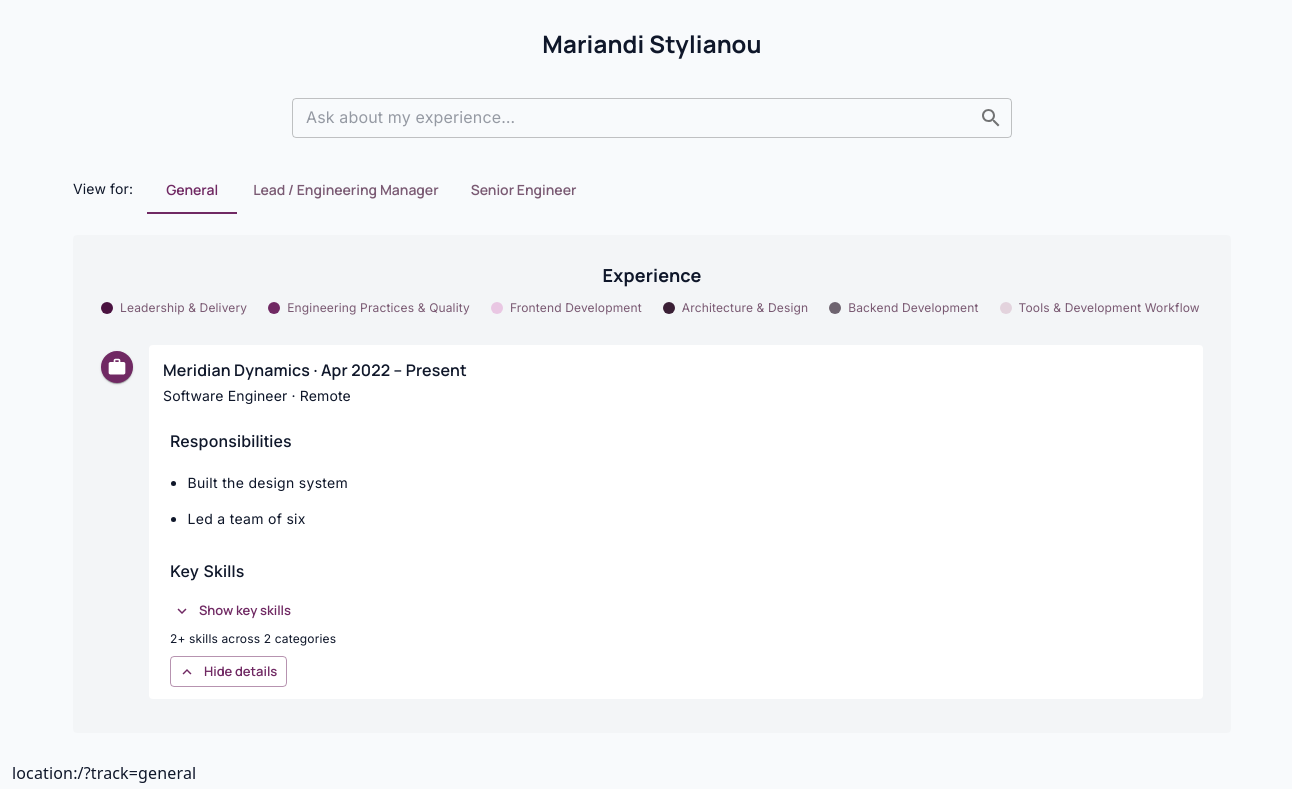
Test case: Resume › switching tabs hides content outside the track, updates the url, and stays axe-clean
Expected: the text "Built the design system" is shown, [188,474,348,491]
Click the button "Show key skills": coordinates (233, 611) [170,595,296,626]
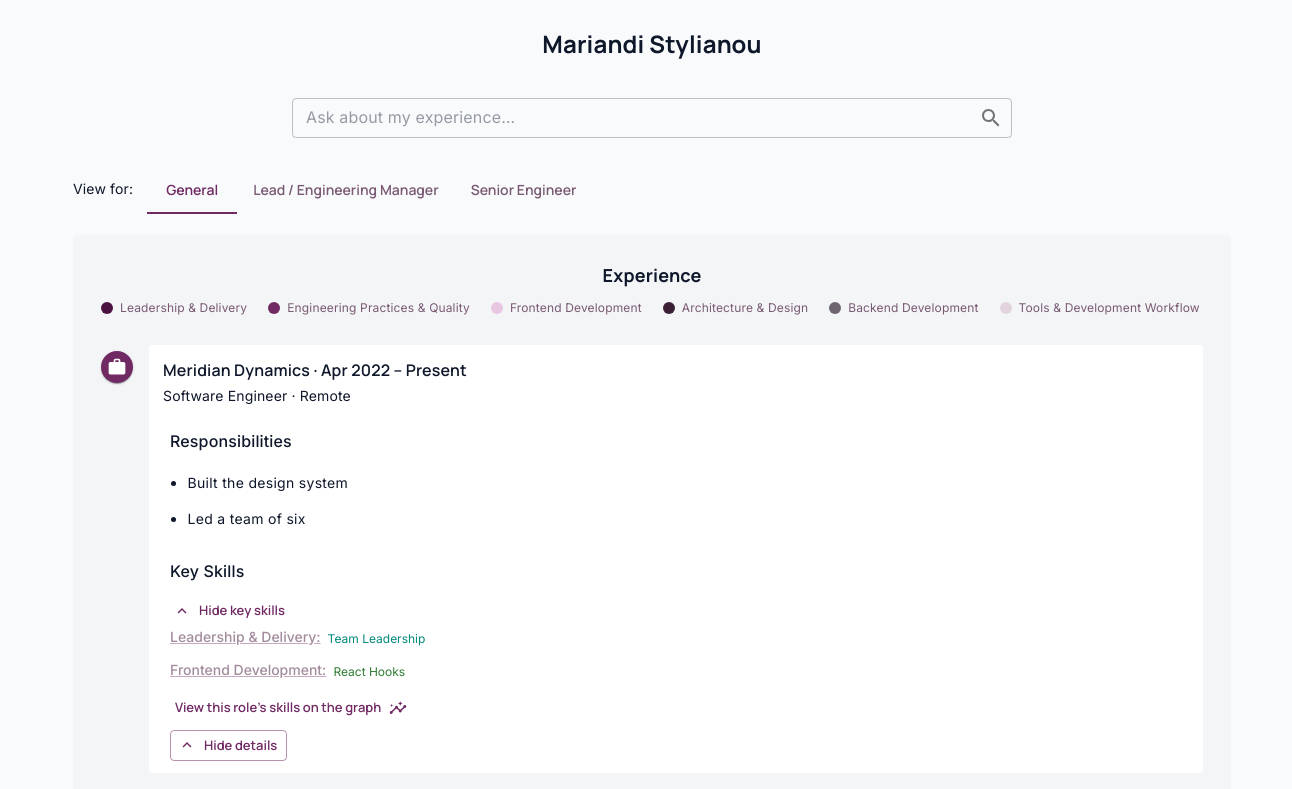
Expected: the button "React Hooks" is shown, [333,662,405,682]
Click the tab "Lead / Engineering Manager": coordinates (346, 190) [237,166,455,214]
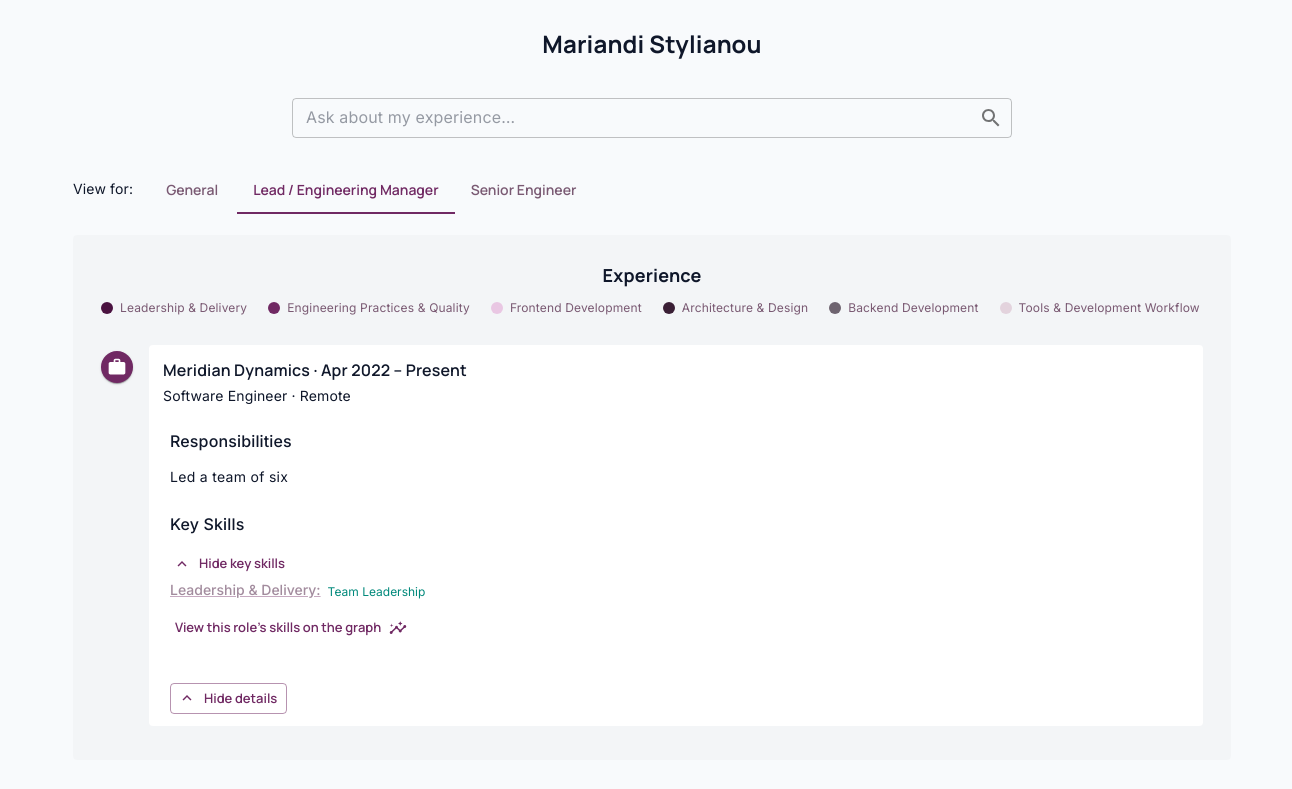
Expected: the button "Team Leadership" is shown, [328,582,425,602]
Expected: the button "React Hooks" is gone
Expected: the text "Built the design system" is gone
Click the tab "Senior Engineer": coordinates (524, 190) [455,166,592,214]
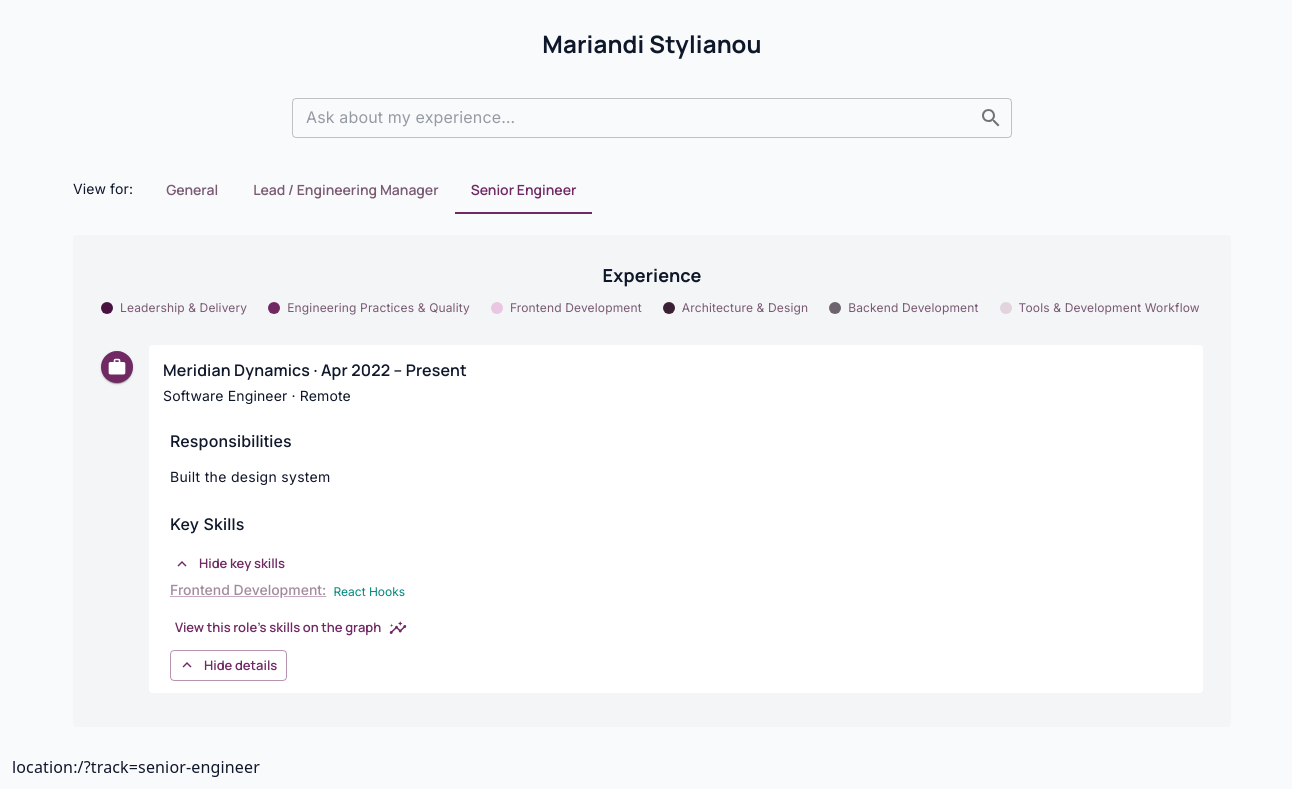
Expected: the heading "Meridian Dynamics · Apr 2022 – Present" is shown, [163,359,467,381]
Expected: the button "Team Leadership" is gone
Expected: the text "location:/?track=senior-engineer" is shown, [12,756,260,778]
